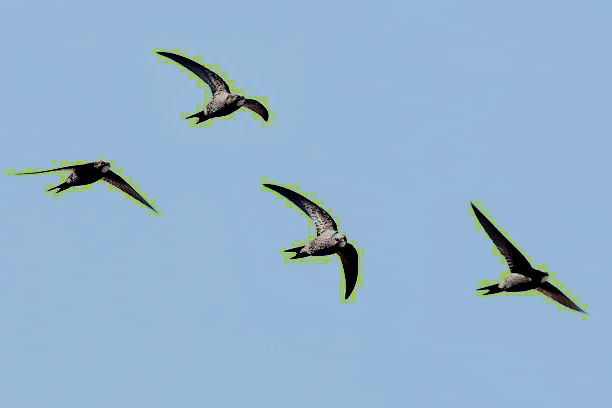Bird: (466, 200, 587, 316), (260, 180, 361, 302), (155, 47, 270, 129), (15, 158, 161, 216)
